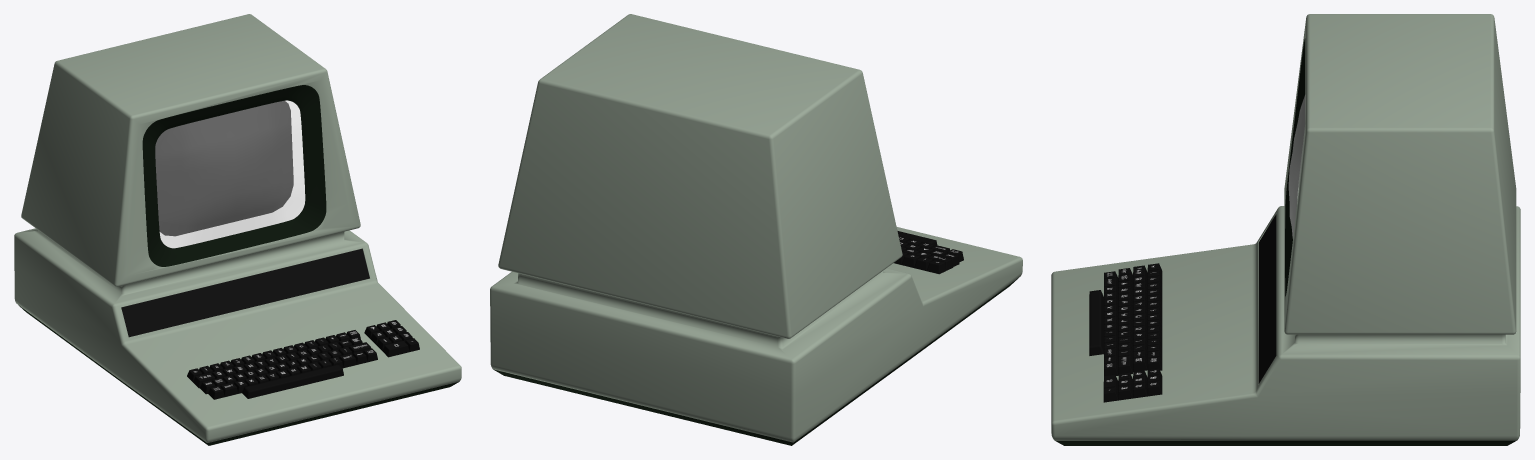
Rendered from Computer.glb.
3 views of the same model, side by side, from view 1: azimuth 30°, elevation 25°; view 2: azimuth 150°, elevation 25°; view 3: azimuth 270°, elevation 25° (orthographic). The views are drawn at different scales.
Parts seen in each view (by area): view 1: Computer, ScreenGlass (×2), Screen, NavBar, ScreenBacklight, Spacebar, Keyboard; view 2: Computer; view 3: Computer, NavBar, ScreenGlass (×2), Keyboard, Spacebar.
Part boxes in pixels (x1,y1,x2,y2): Computer: [14, 14, 461, 445]; ScreenGlass (×2): [155, 101, 304, 247]; Screen: [155, 100, 293, 236]; NavBar: [121, 248, 369, 337]; ScreenBacklight: [159, 100, 305, 248]; Spacebar: [242, 364, 343, 398]; Keyboard: [199, 342, 307, 374]; Computer: [490, 14, 1022, 445]; Computer: [1051, 14, 1520, 445]; NavBar: [1258, 214, 1276, 383]; ScreenGlass (×2): [1289, 96, 1304, 236]; Keyboard: [1147, 269, 1162, 338]; Spacebar: [1089, 290, 1103, 355].
Size of the model in its own units: 1.99 by 1.86 by 2.61.
Materials: 6 (1 with a texture image).
